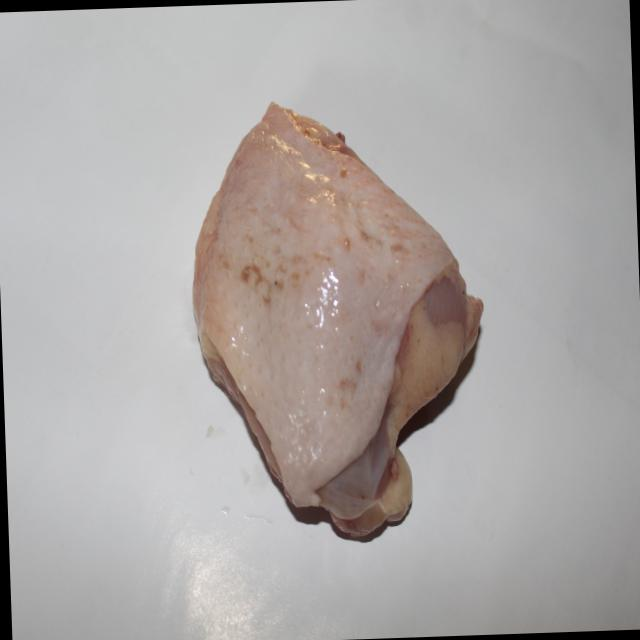chicken: (182, 99, 490, 545)
